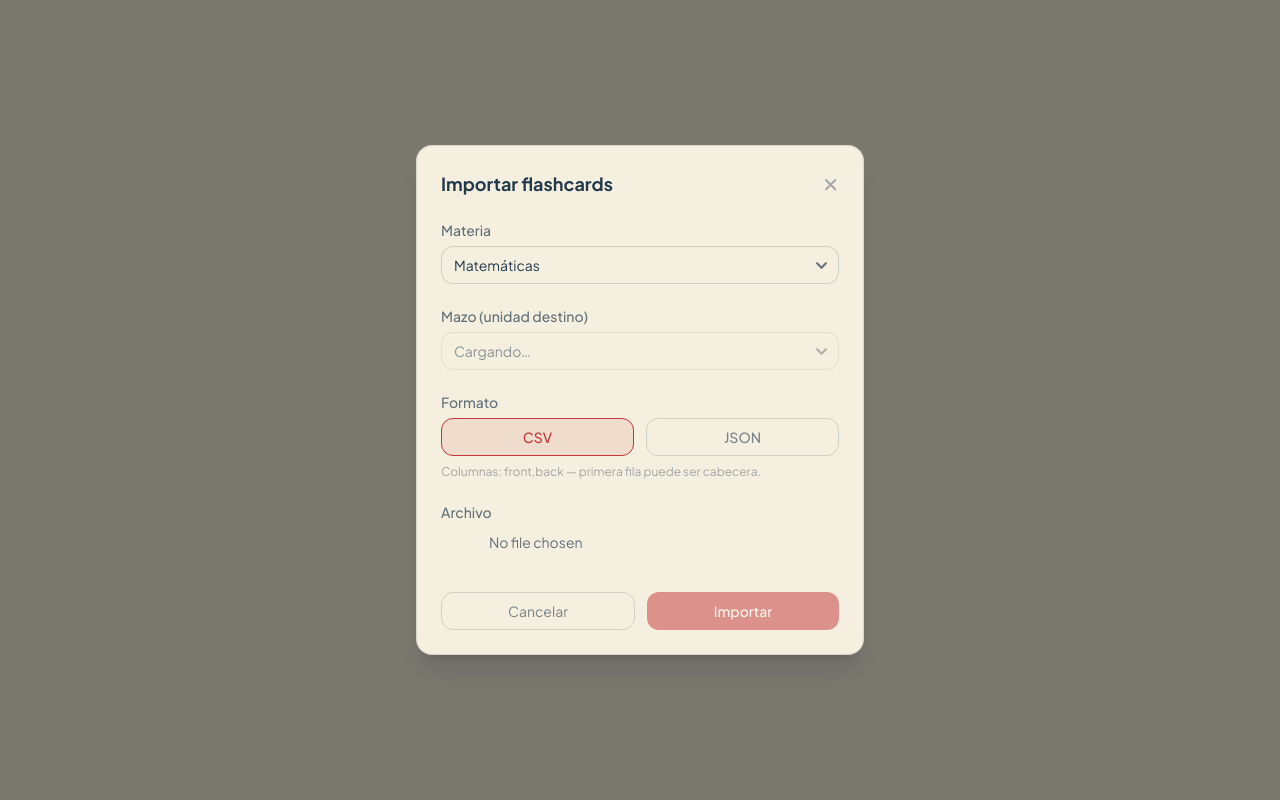
Test case: FlashcardImportModal › switches to JSON format when JSON button is clicked
Click the button "JSON" at (742, 437), box [646, 418, 839, 456]
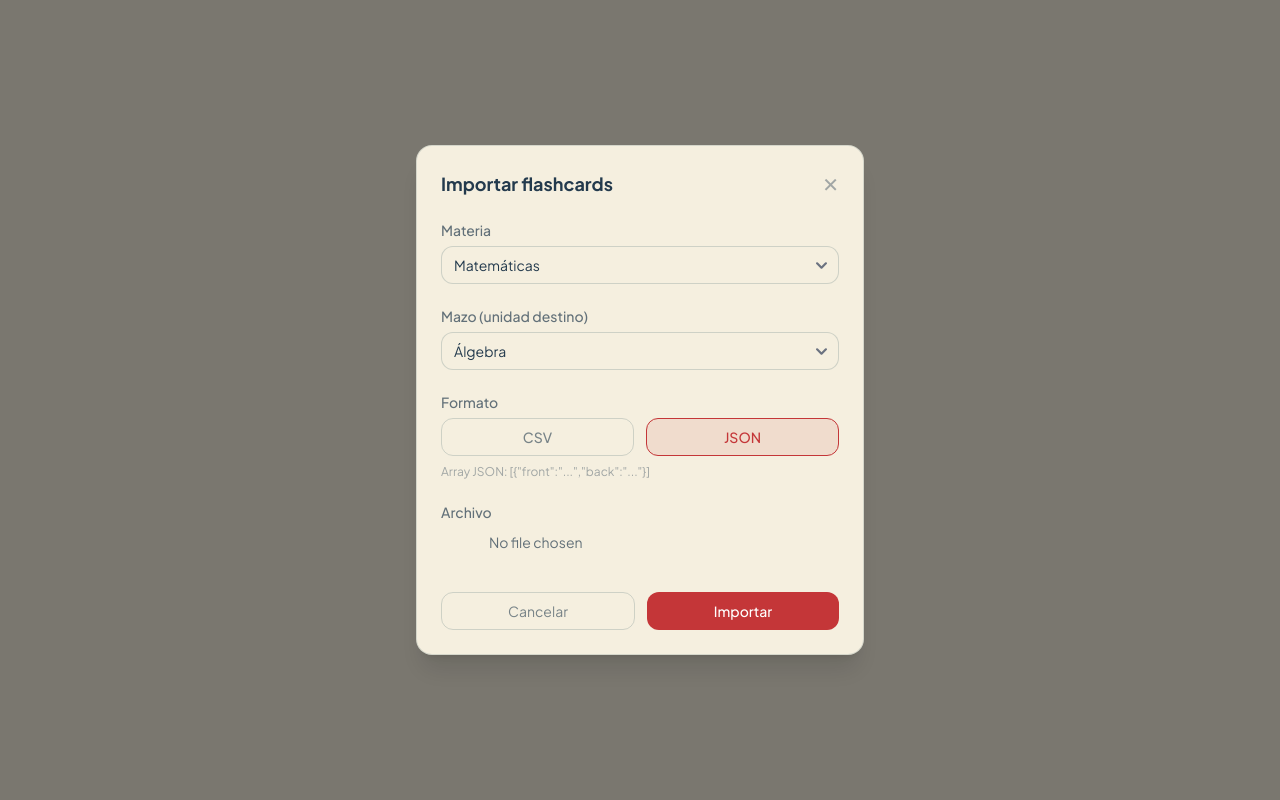
Check: the text "Array JSON: [{\"front\":\"...\",\"back\":\"...\"}]" is shown, box [441, 464, 650, 479]
